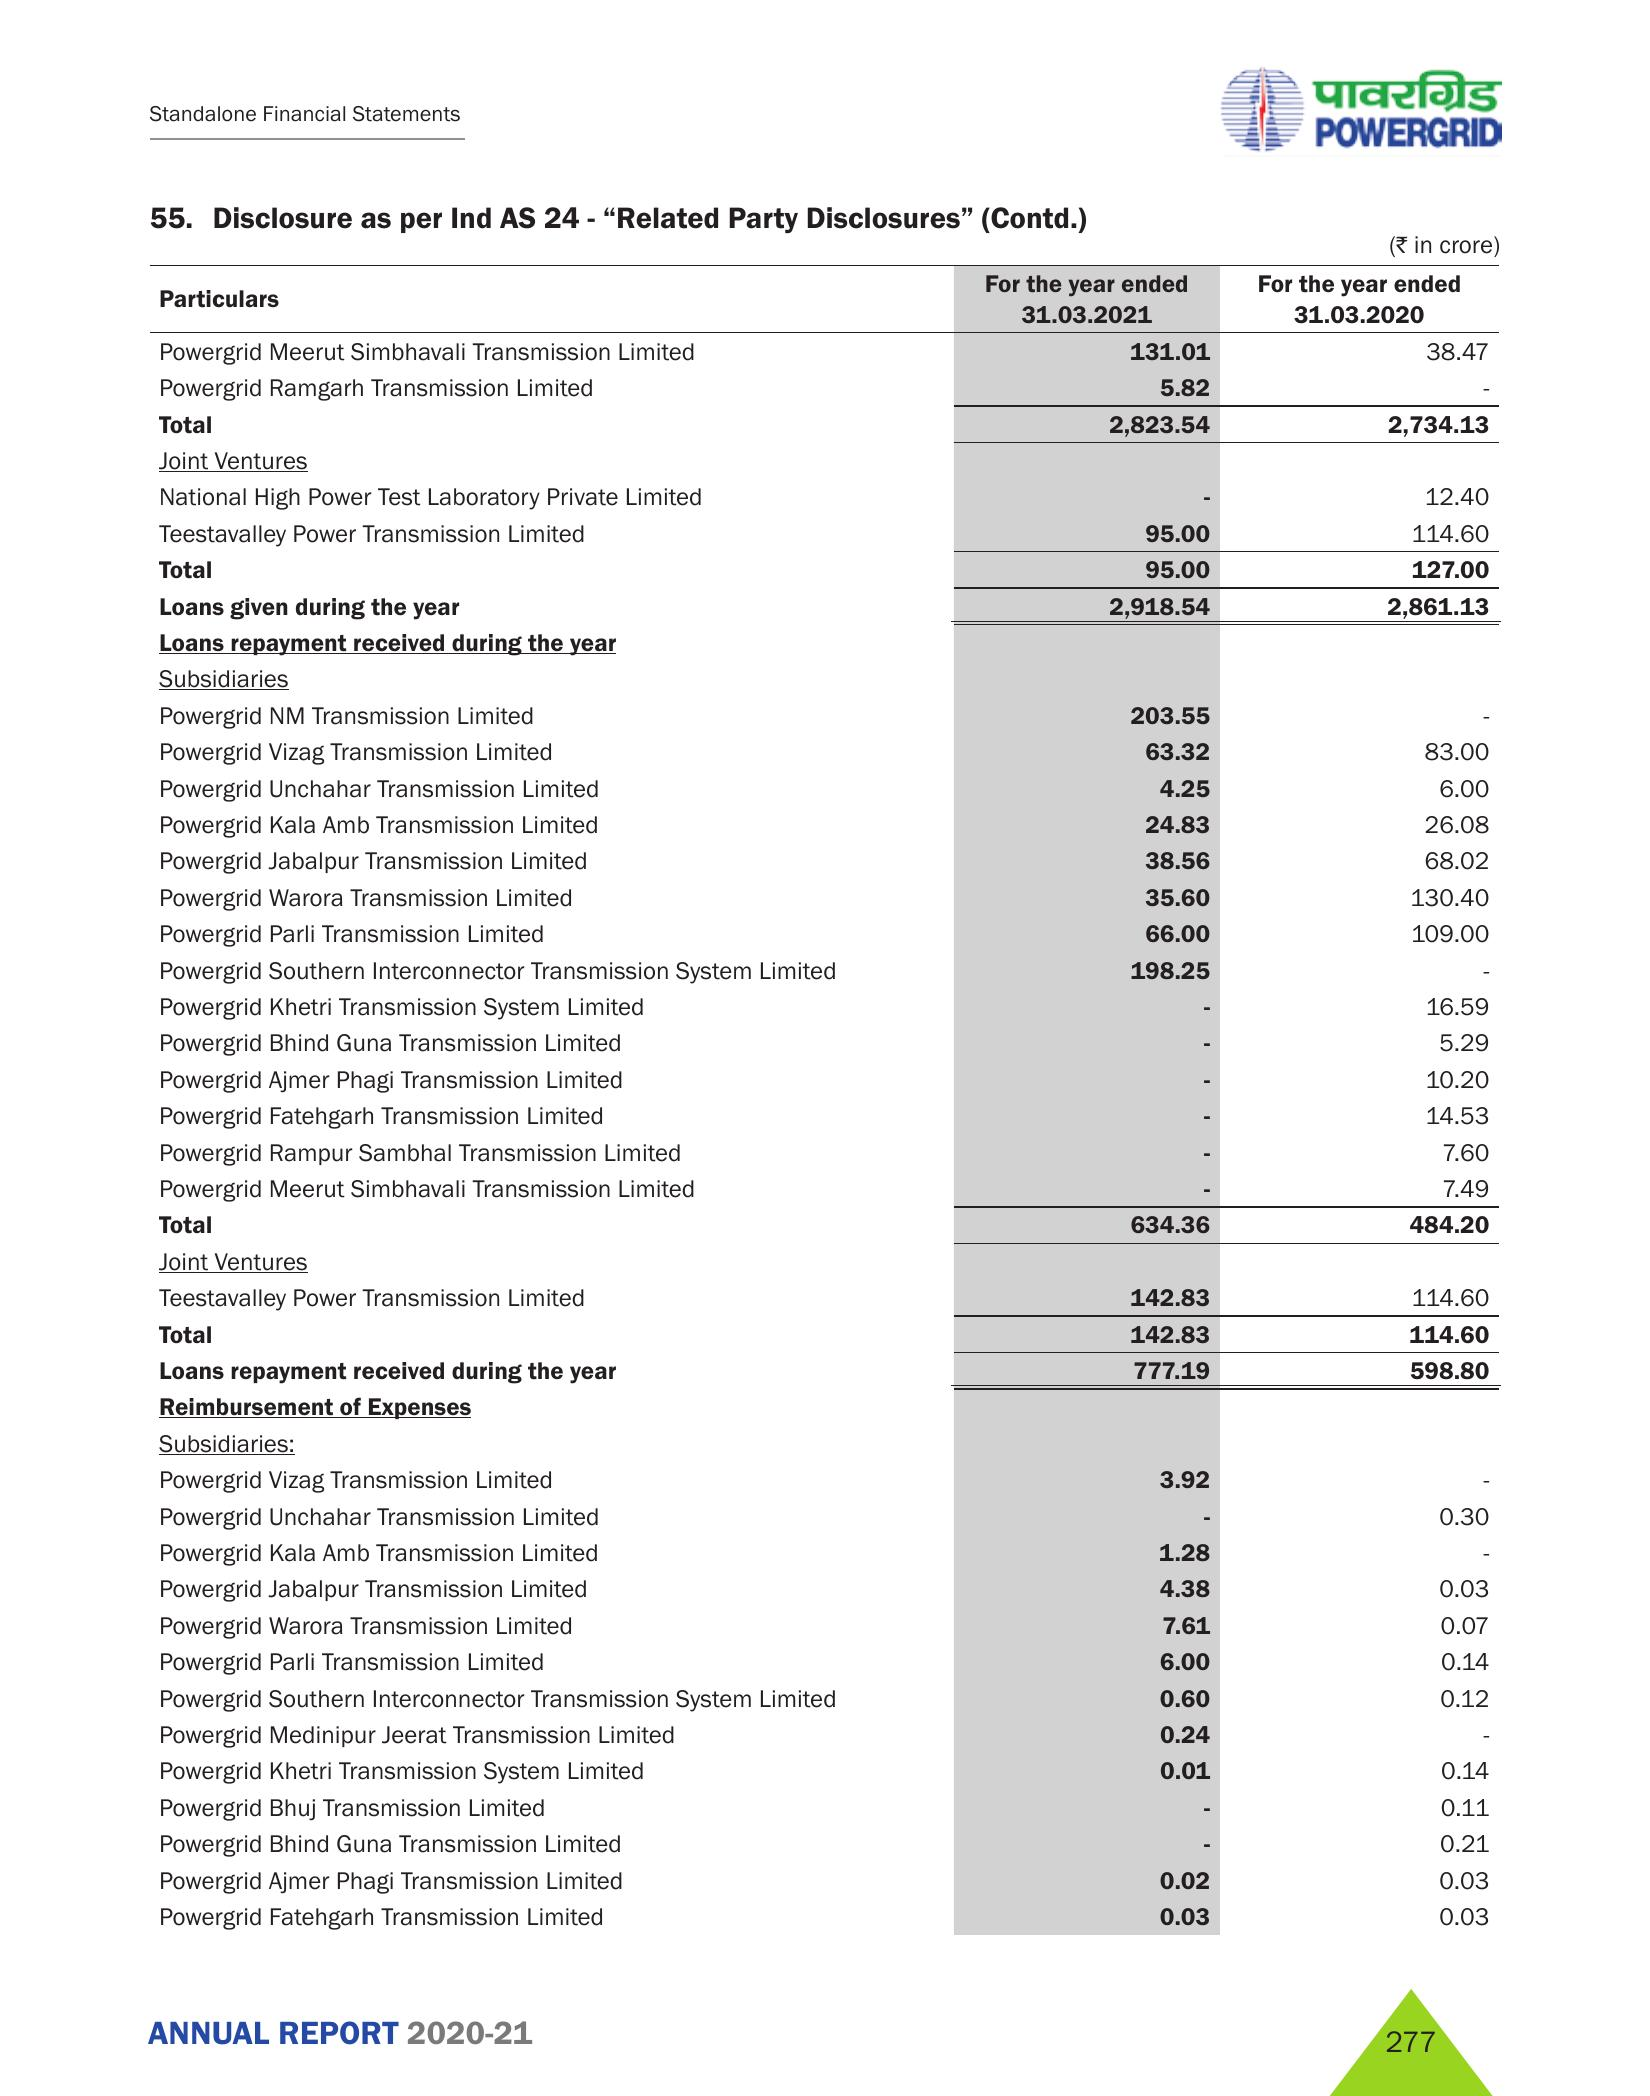Footer: (0, 1956, 1650, 2096)
Header: (0, 0, 1650, 168)
Table: (126, 260, 1568, 1945)
